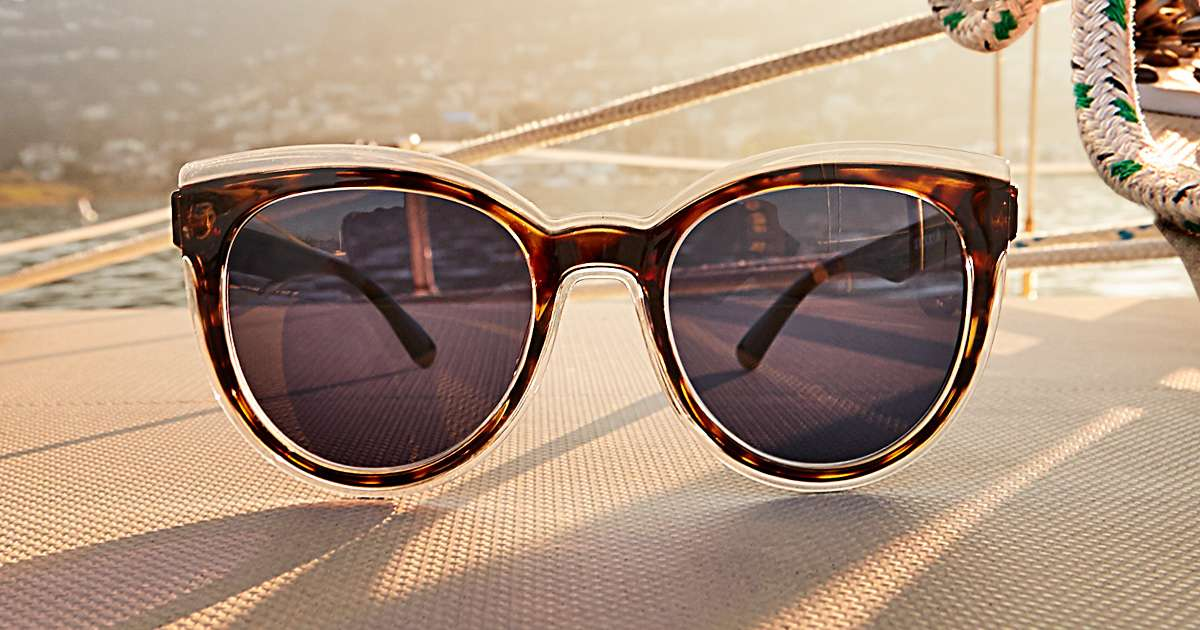sunglasses: (168, 108, 1085, 522)
